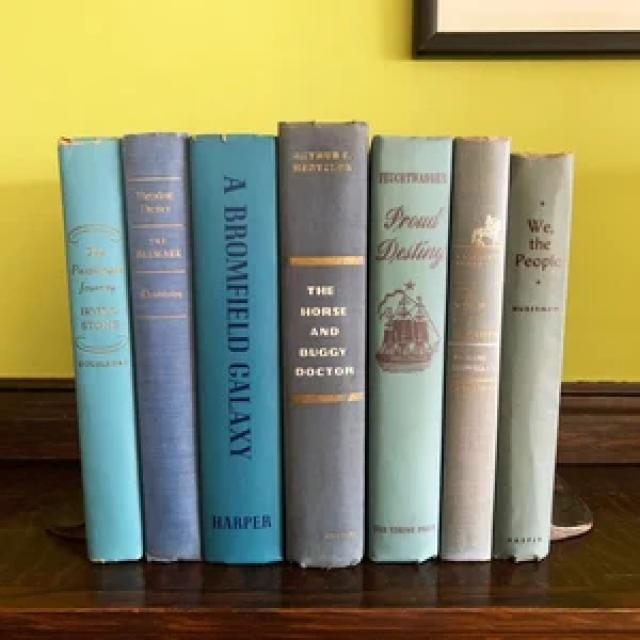Books: (279, 126, 368, 568), (191, 138, 277, 562), (368, 138, 451, 562), (60, 141, 142, 562), (124, 132, 201, 561), (440, 138, 507, 560)
